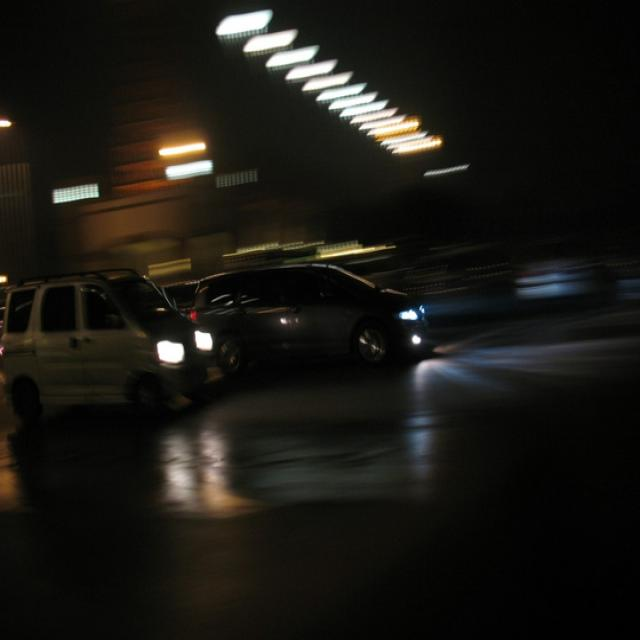Car: (0, 266, 241, 453), (166, 238, 443, 397)
